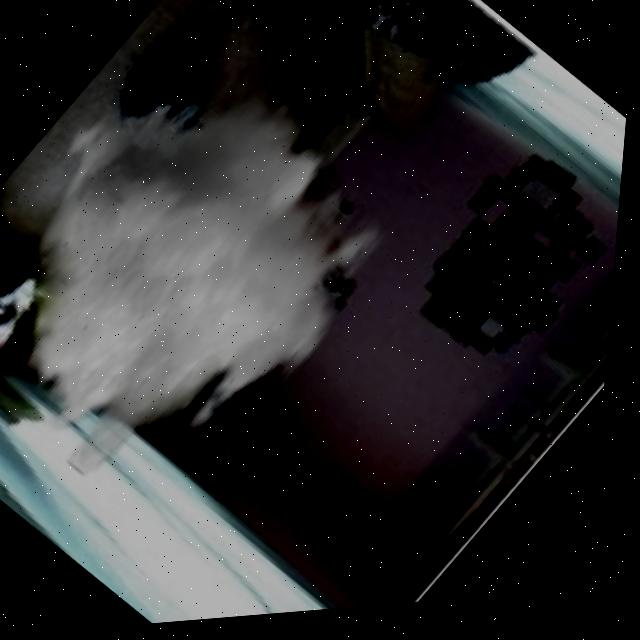Smoke: (0, 12, 431, 538)
